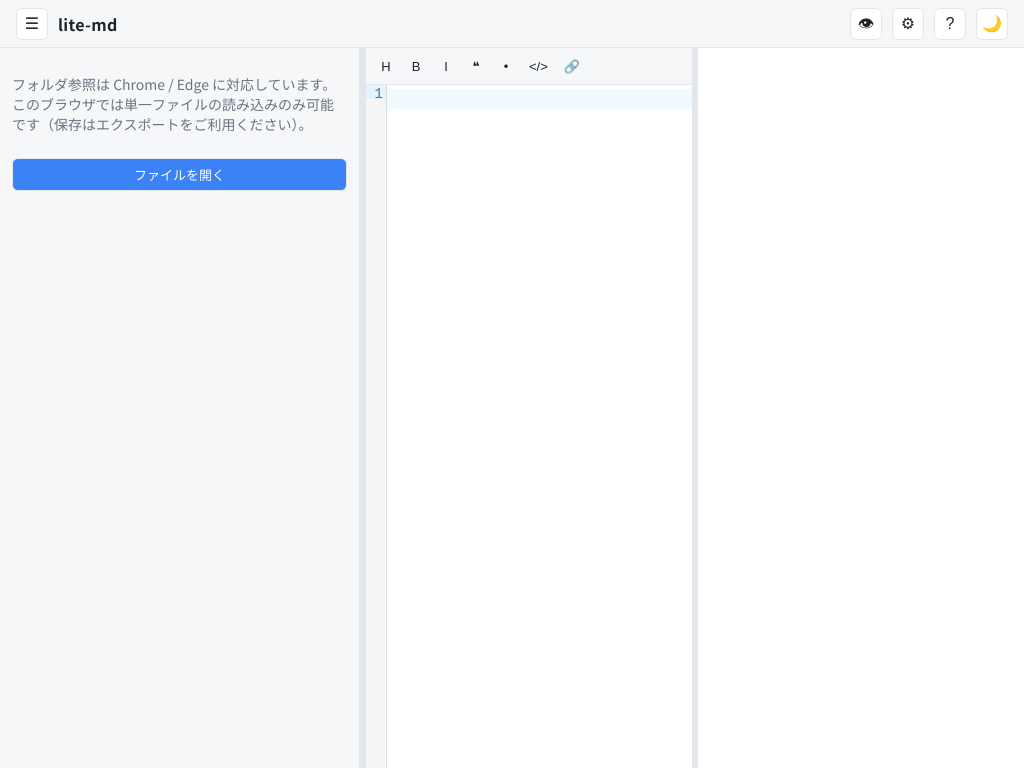
Scenario: App › ? ボタンクリックでツアーが開く
Click the button named "ヘルプ".
click(950, 24)  # box [934,8,966,40]
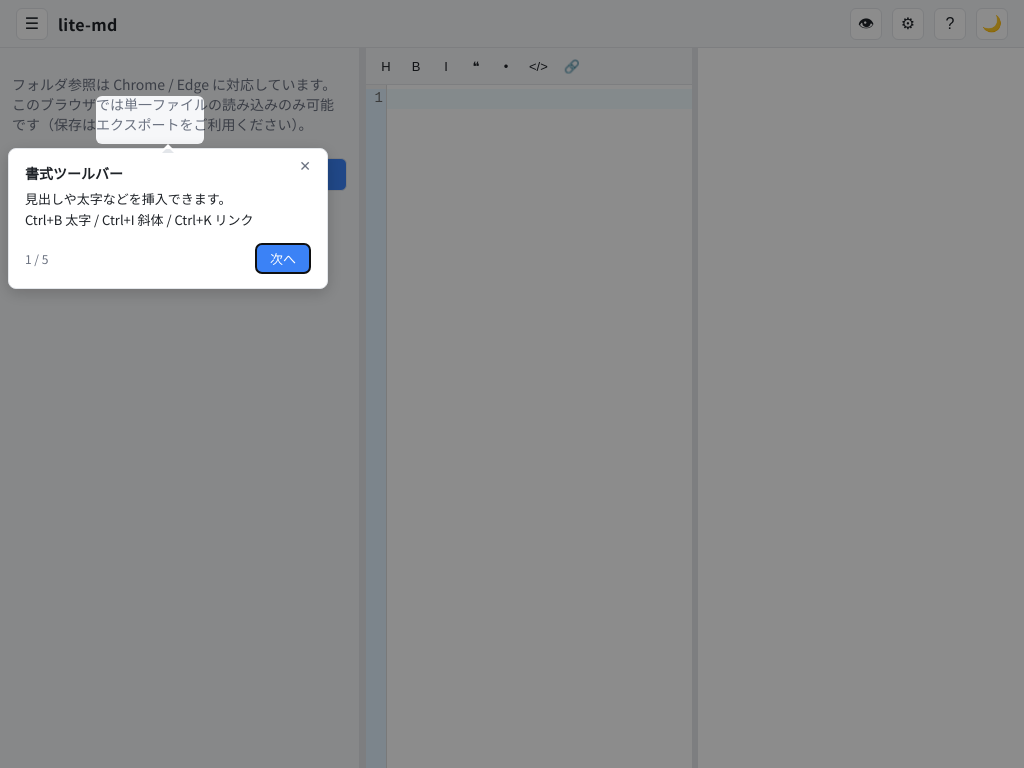
expect the dialog named "チュートリアル" is shown: met, box [8,148,328,289]
expect the heading "書式ツールバー" is shown: met, box [25,163,123,183]
